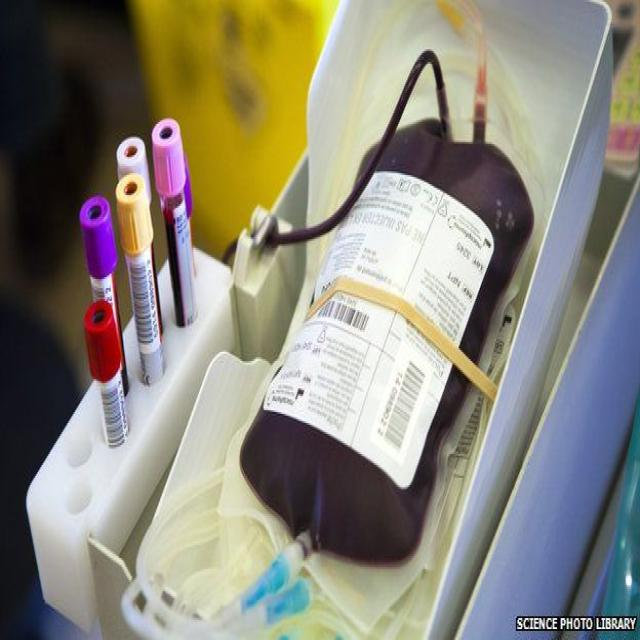B3: (232, 53, 548, 566)
